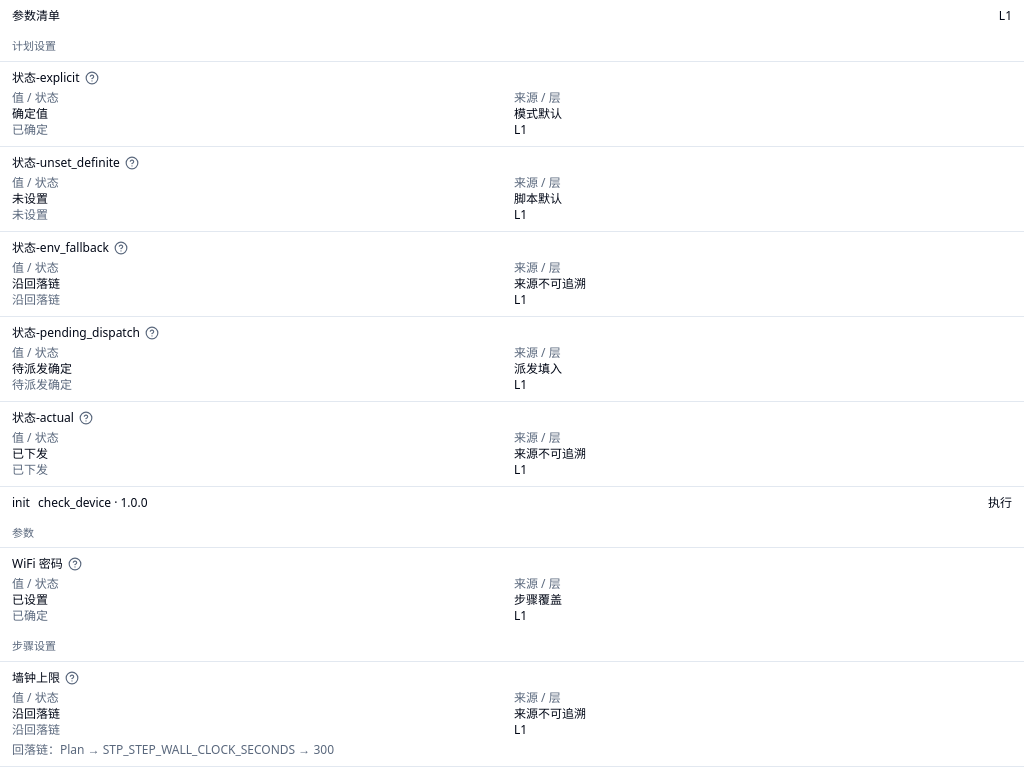
Test: ParameterProjectionList › shows value or state, source, layer, and meaning help for each of the five states
Expected: the text with test id "parameter-layer" reads "L1", [999,7,1012,24]
Expected: the text "状态-explicit" is shown, [12,68,80,86]
Hover over the button named "状态-explicit的说明".
mouse_move(92, 78)  # box [84,70,100,86]
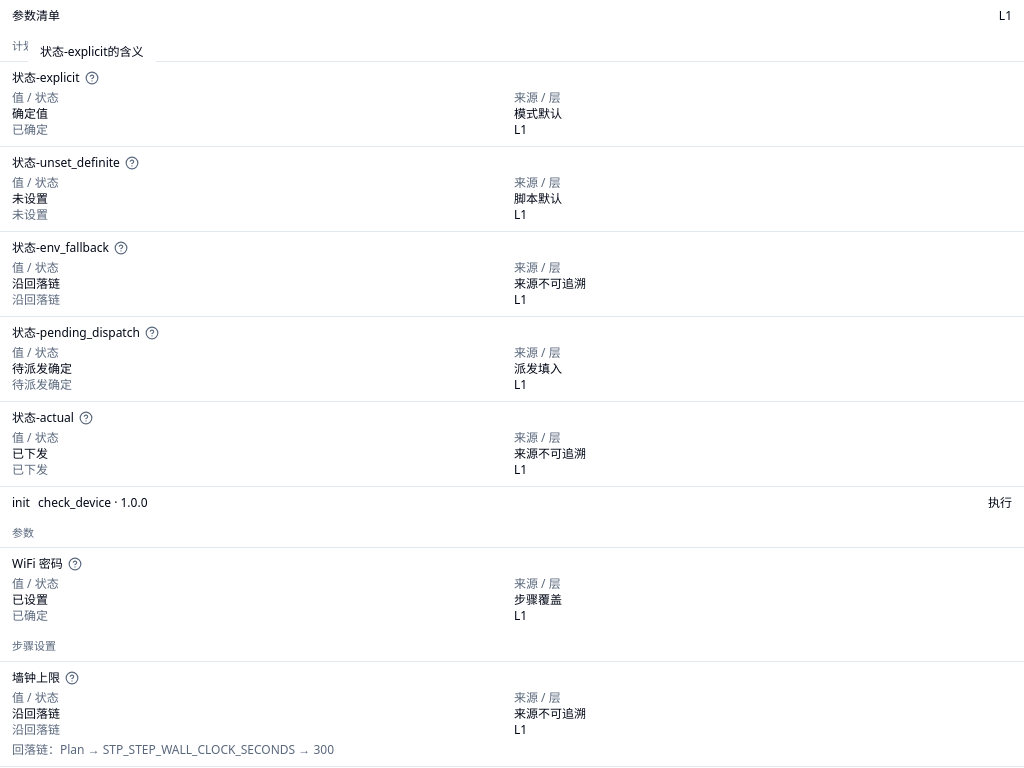
Expected: the text "模式默认" is shown, [514,104,562,122]
Result: the tooltip reads "状态-explicit的含义" at [40,43,144,60]
